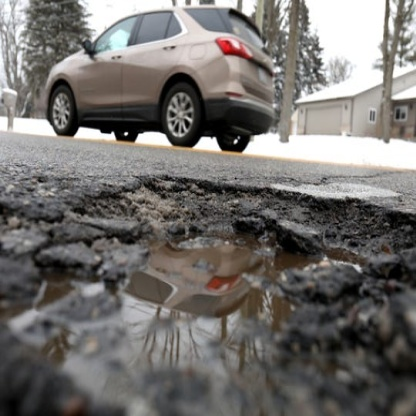pothole: (3, 159, 414, 416)
